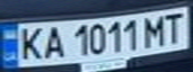0: (87, 20, 109, 55)
1: (66, 21, 90, 57), (121, 16, 142, 51), (106, 18, 127, 53)
A: (39, 24, 69, 60)
K: (12, 25, 48, 62)
M: (139, 12, 172, 47)
T: (157, 9, 190, 44)
